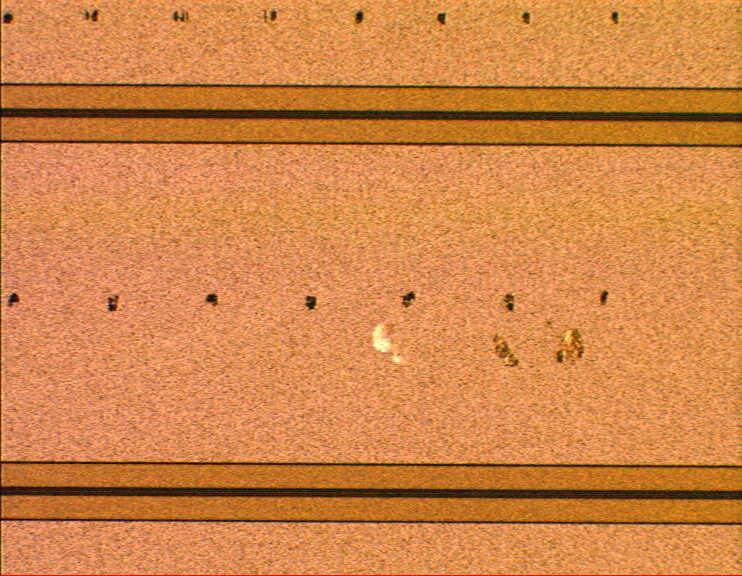SCRATCH: (347, 306, 611, 389)
